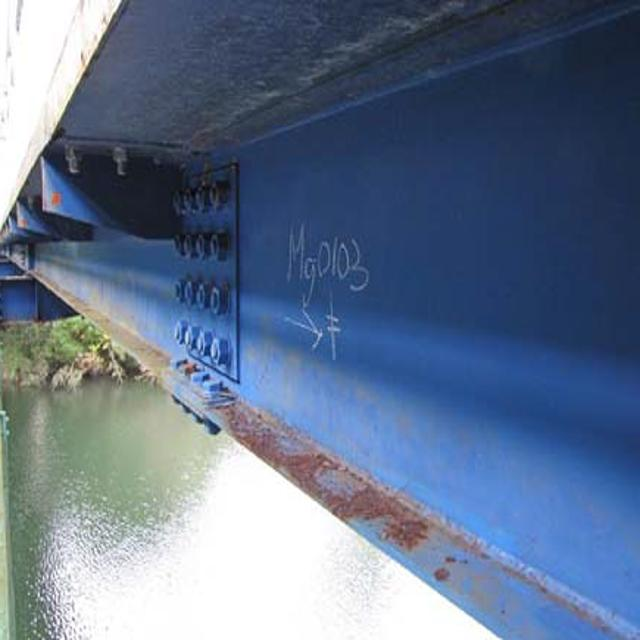corrosion: (203, 370, 440, 570)
